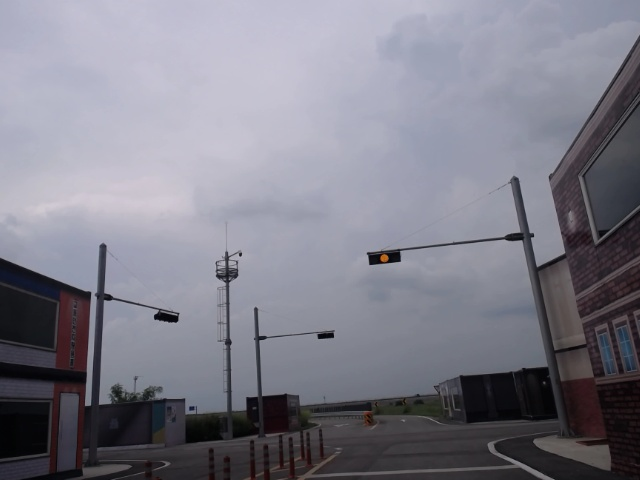orange_3: (368, 252, 401, 265)
